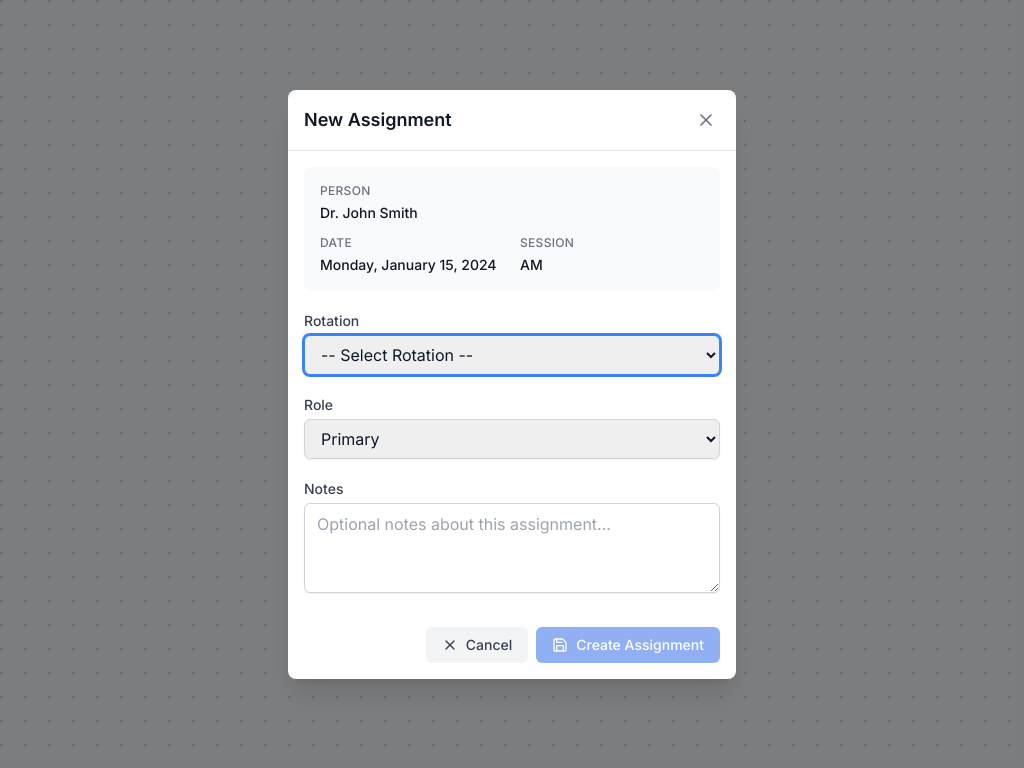
it: EditAssignmentModal › Save Button State › should enable save button when rotation is selected
Select "Clinic (CLIN)" in the dropdown labelled "Rotation" at {"x": 512, "y": 354}, box [304,334,720,374]
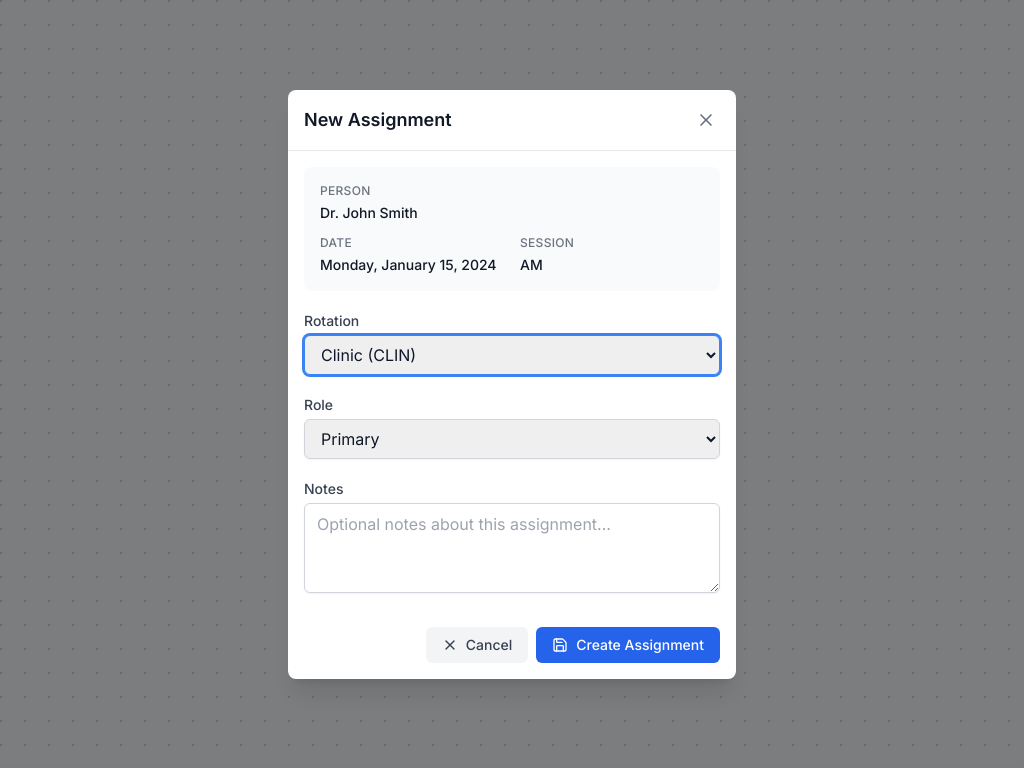
Now the button "Create Assignment" is enabled, box [536,626,720,662]
